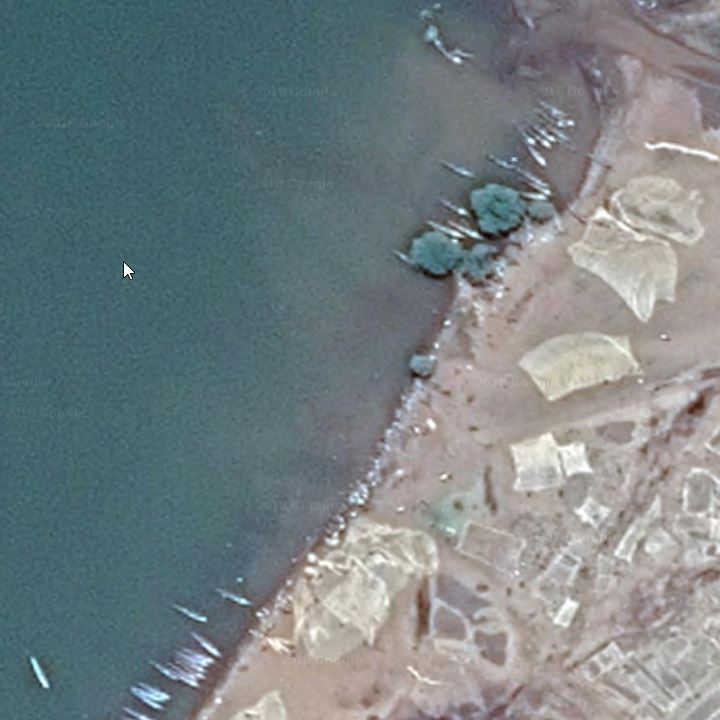boat: (533, 102, 577, 132), (185, 631, 227, 660), (423, 217, 468, 242), (25, 649, 51, 691), (436, 35, 466, 70), (169, 600, 208, 625), (445, 218, 486, 241), (136, 678, 175, 702), (436, 196, 474, 220), (513, 165, 552, 188), (538, 120, 574, 143), (145, 658, 179, 682), (520, 142, 550, 169), (523, 125, 555, 150), (439, 157, 475, 179), (213, 589, 252, 609), (511, 119, 538, 147), (173, 648, 210, 667), (174, 653, 210, 672), (165, 661, 197, 682), (180, 649, 219, 666), (531, 125, 561, 146), (486, 153, 518, 172), (523, 180, 555, 198), (176, 664, 208, 682), (131, 694, 164, 711), (519, 189, 553, 205), (171, 672, 201, 690), (119, 705, 155, 720), (131, 687, 164, 702), (391, 249, 412, 266)
